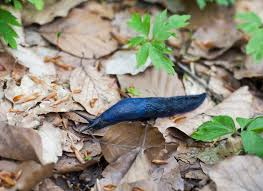slug: (77, 92, 208, 132)
